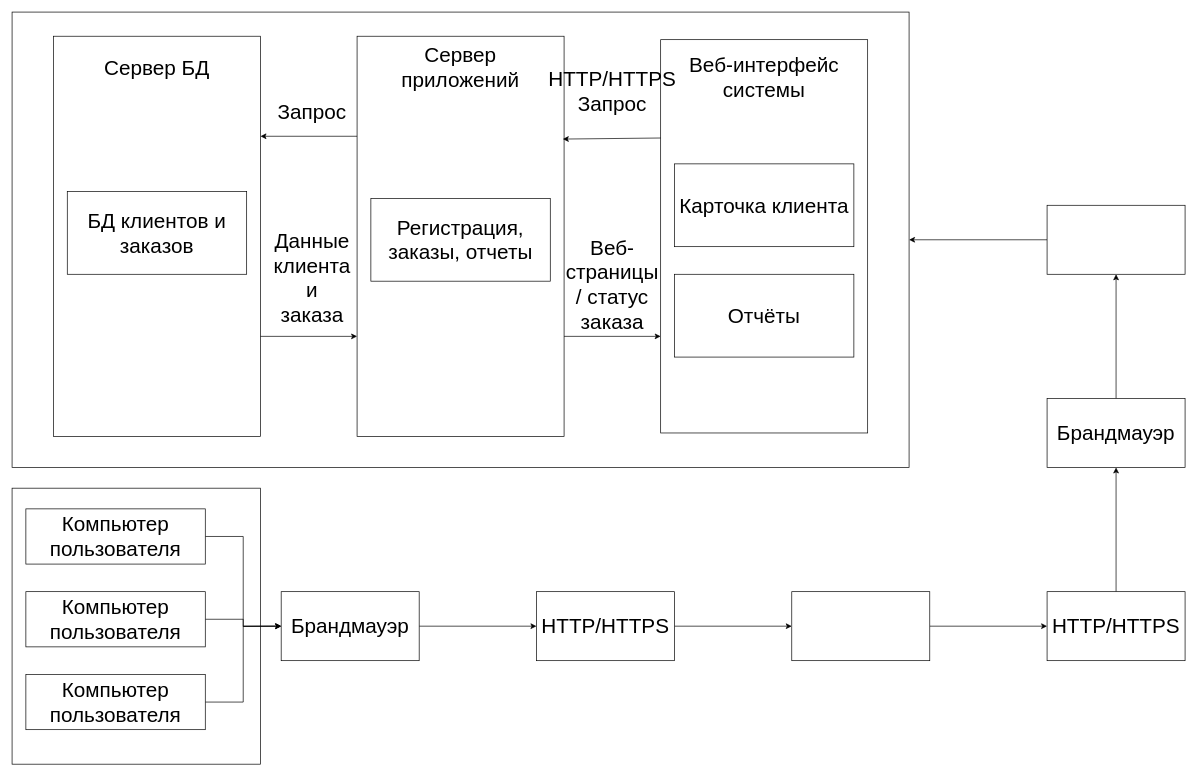
The diagram is 1197 pixels wide and 776 high, and some of its shapes have lost their labels. Each missing label, with the box of its shape:
Интернет: (791, 591, 930, 661)
Подключение: (1046, 205, 1185, 274)
